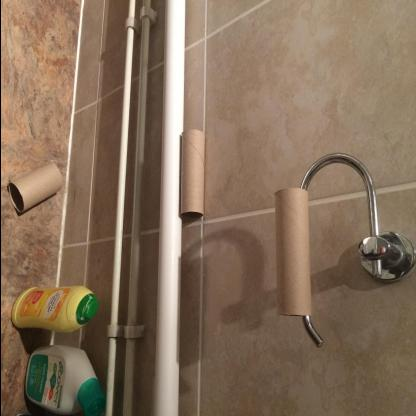karton: (273, 187, 311, 318), (7, 161, 62, 213), (178, 129, 204, 219)
plastik: (23, 344, 105, 416), (9, 284, 98, 334)
